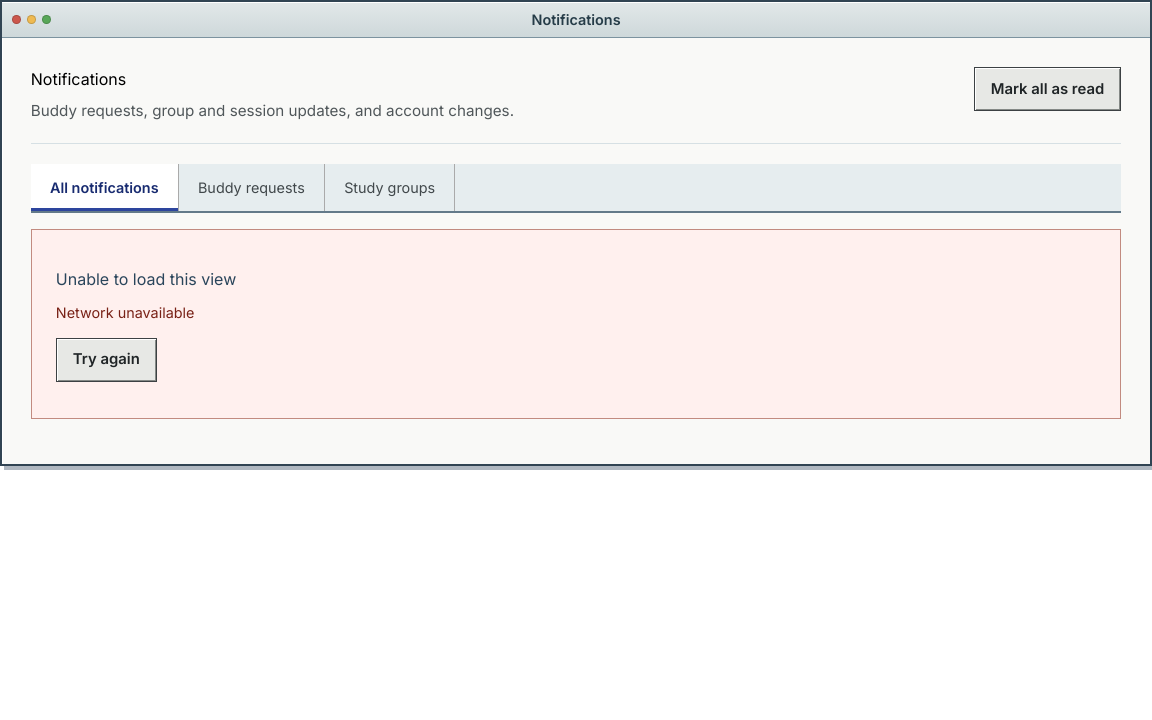
Test case: notifications › shows a retry and recovers from a failed read view
The width and height of the screenshot is (1152, 720).
Expected: the message shows "Network unavailable", top-left (56, 304), bottom-right (194, 321)
Click the button "Try again".
click(106, 360)  # box top-left (56, 338), bottom-right (157, 382)
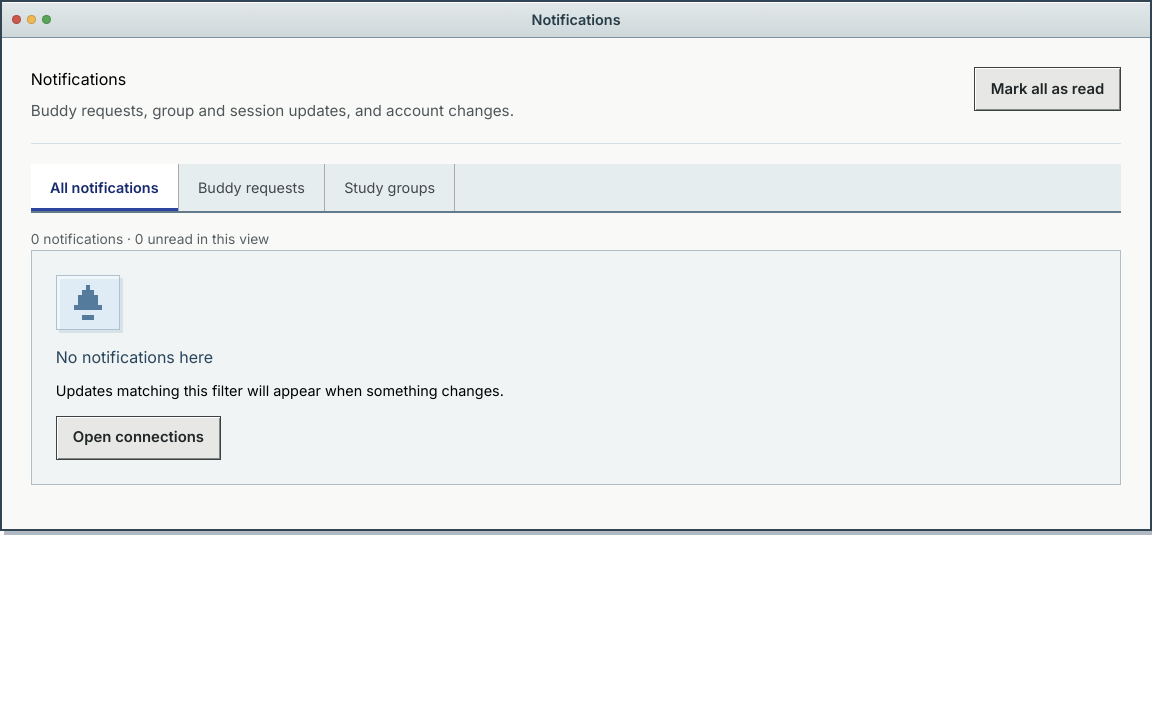
Expected: the heading "No notifications here" is shown, top-left (56, 345), bottom-right (213, 369)
